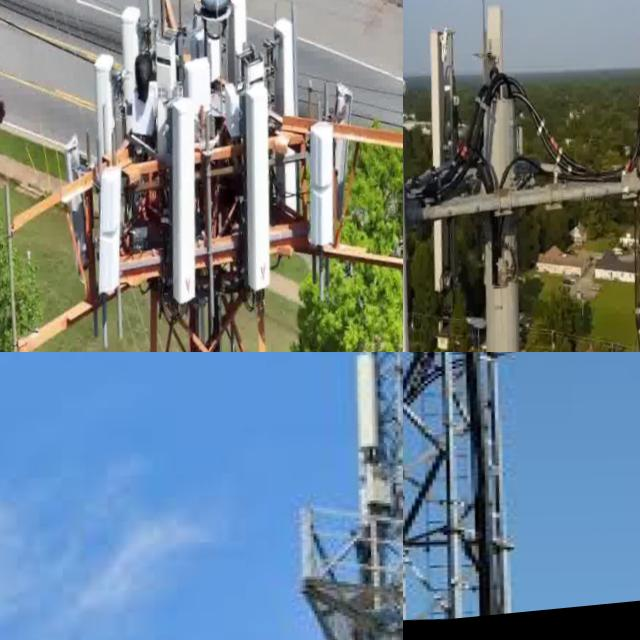GSM Antenna: (407, 30, 466, 301), (403, 0, 440, 352), (152, 99, 212, 315), (604, 0, 640, 352), (227, 92, 283, 302), (48, 138, 95, 275), (293, 124, 339, 262), (335, 366, 388, 483), (83, 163, 127, 298), (82, 50, 122, 173), (320, 87, 357, 219), (107, 6, 149, 116), (263, 22, 300, 137), (217, 0, 254, 98), (474, 5, 506, 112), (394, 373, 403, 490)
